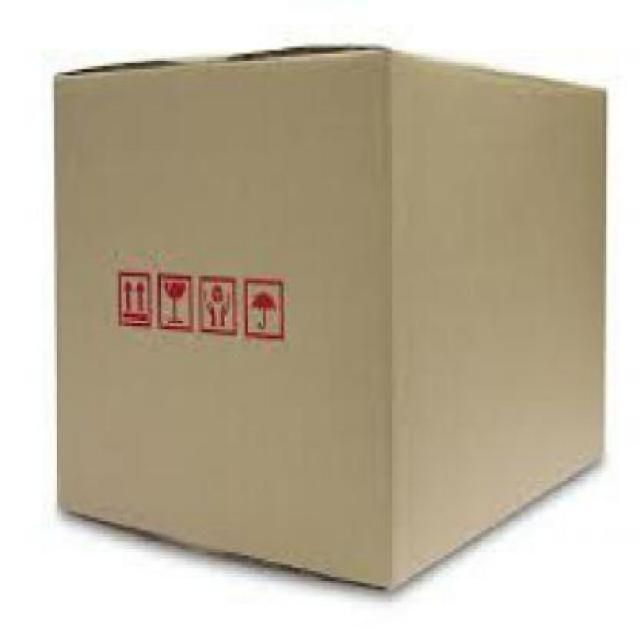box: (36, 43, 622, 609)
